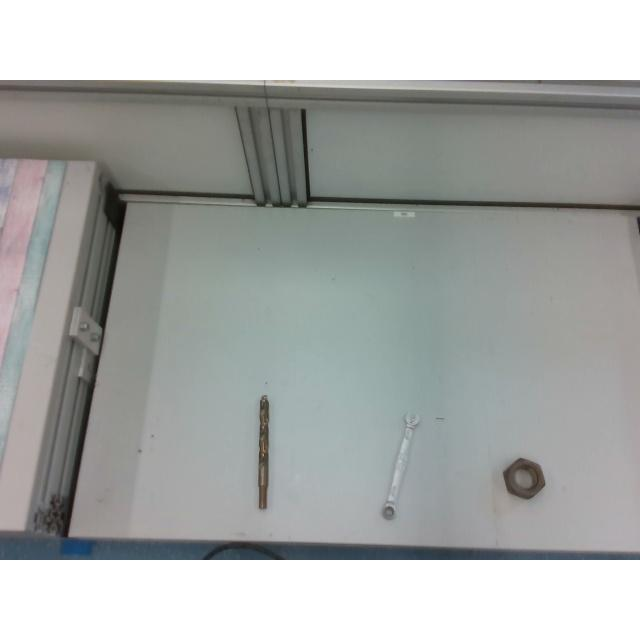Drill: (257, 394, 271, 510)
M30: (502, 458, 546, 500)
Wrench: (381, 411, 421, 521)
